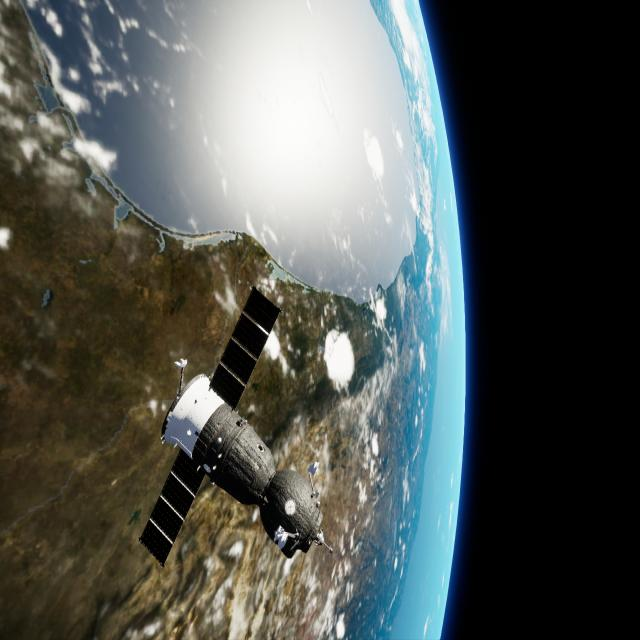Satellites revolving around earth: (3, 1, 467, 638), (137, 284, 334, 570)
